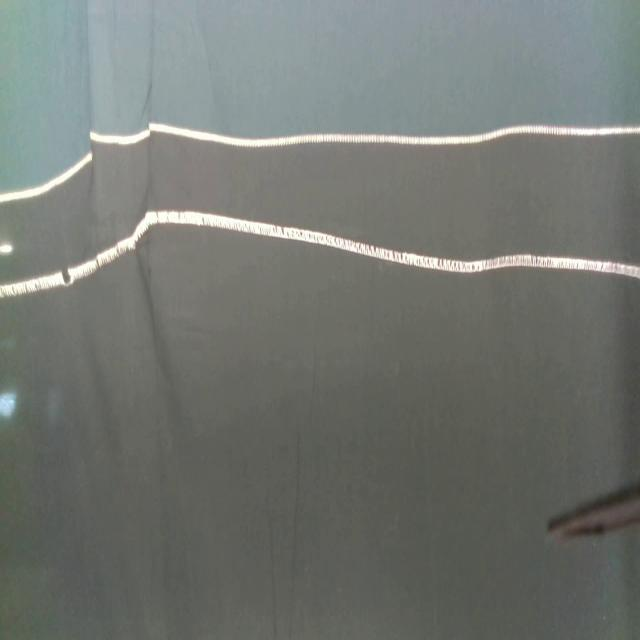crease: (288, 410, 304, 635), (265, 512, 277, 640)
